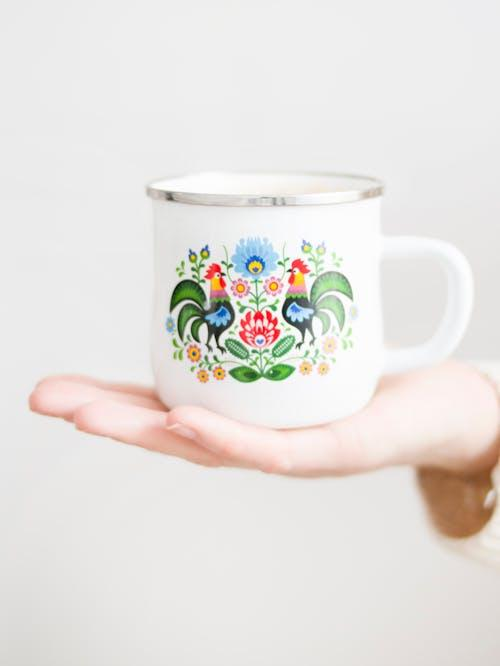Mug: (103, 116, 494, 497)
